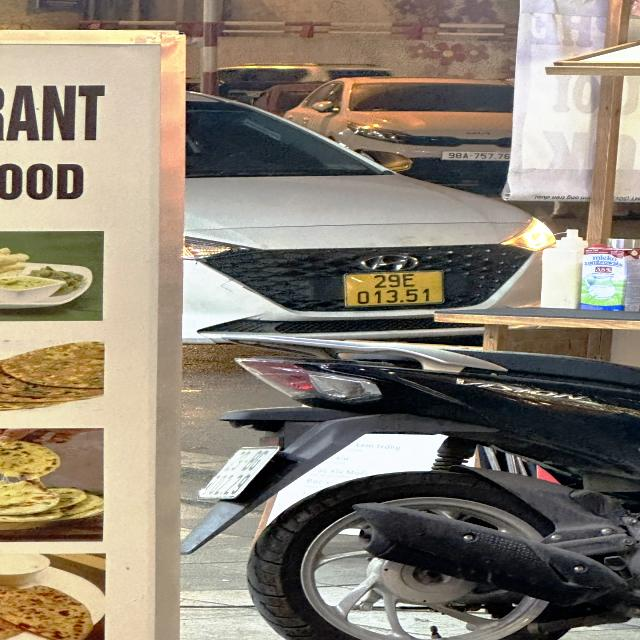license_plate: (338, 267, 453, 311)
